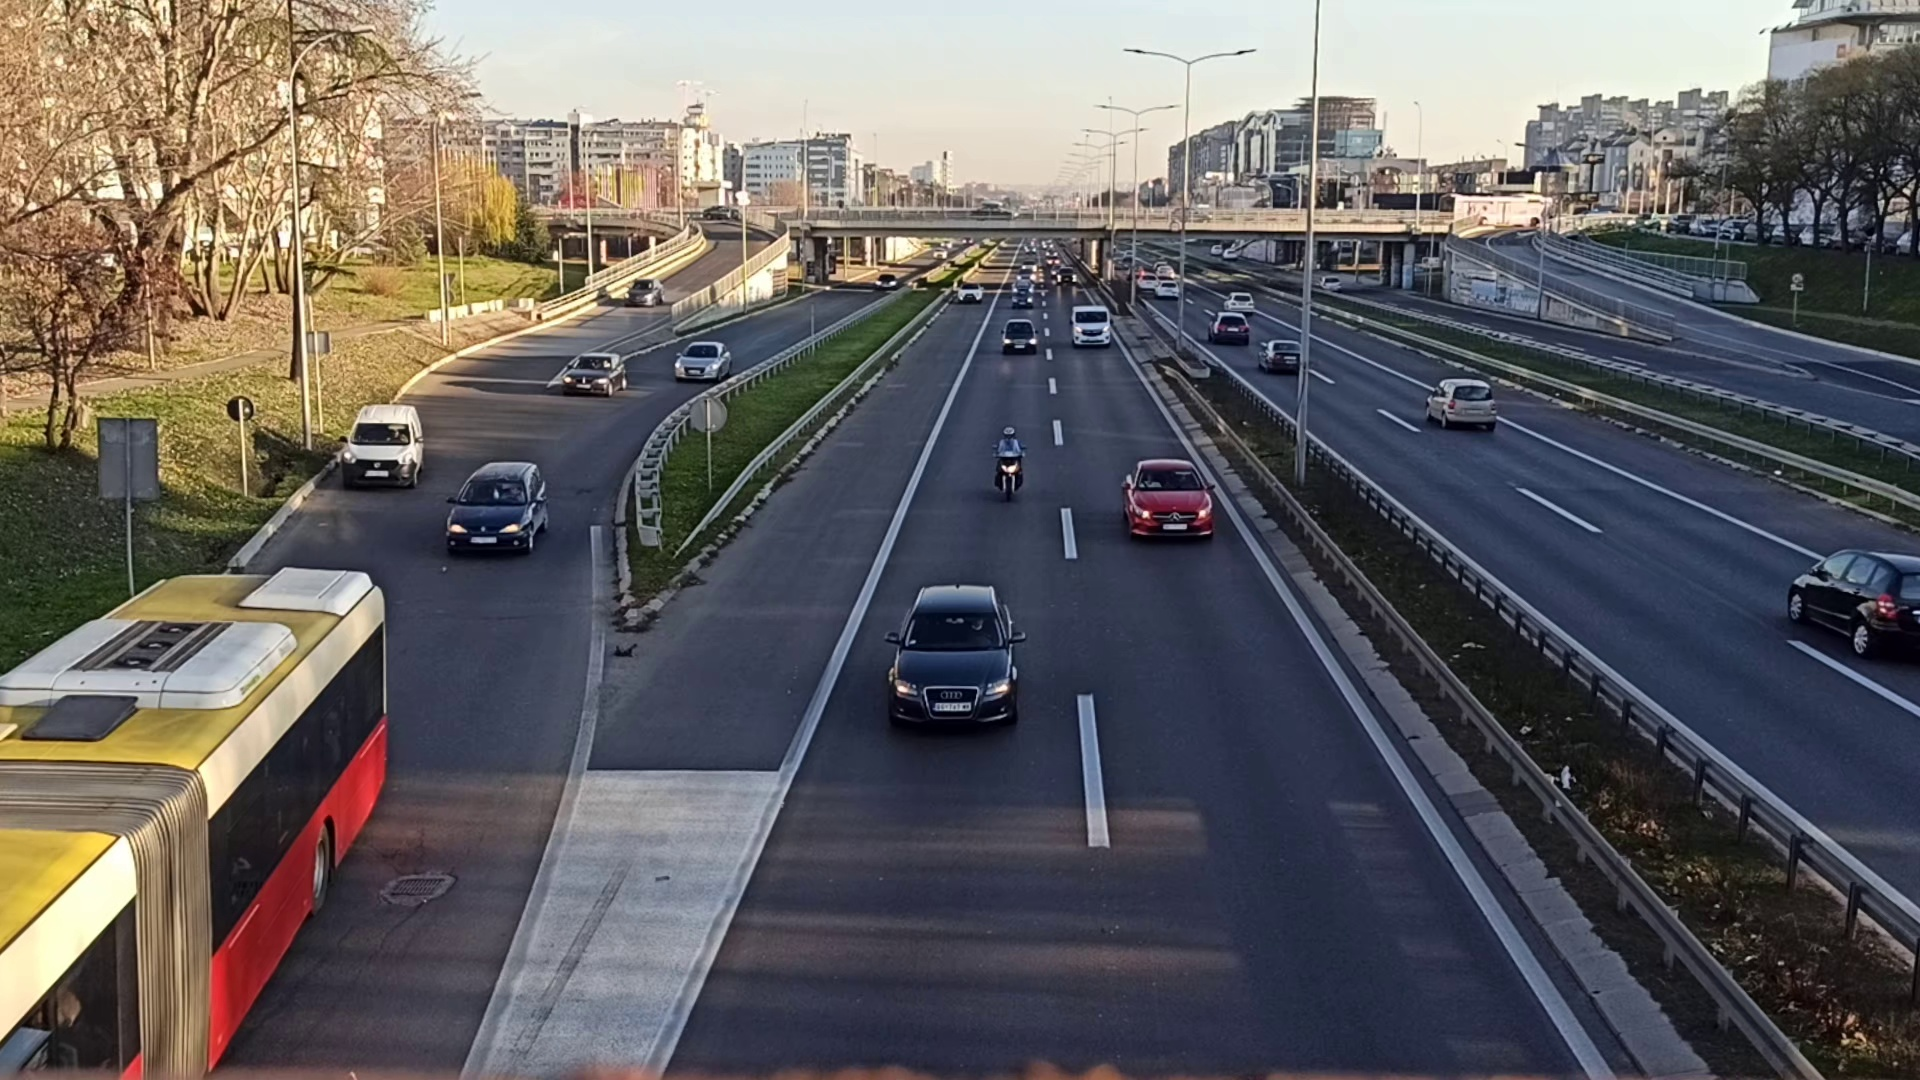car: (887, 583, 1022, 731), (1789, 545, 1920, 659), (450, 458, 547, 556), (1120, 458, 1216, 546), (1425, 378, 1495, 429), (563, 351, 625, 398), (675, 340, 732, 384), (1258, 338, 1305, 369), (626, 273, 665, 306), (1208, 313, 1247, 344), (1002, 319, 1035, 353)
motorcycle: (993, 427, 1025, 496)
van: (345, 400, 423, 487), (1071, 305, 1109, 349)
